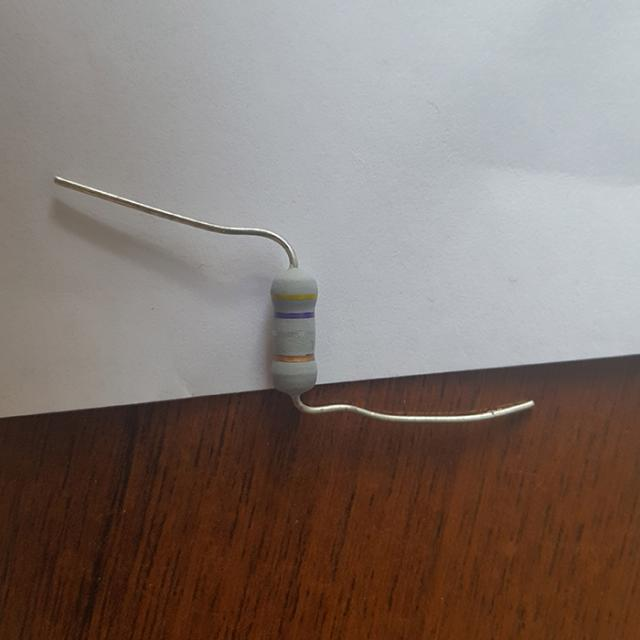Resistor Carbon-Film: (270, 268, 320, 393)
